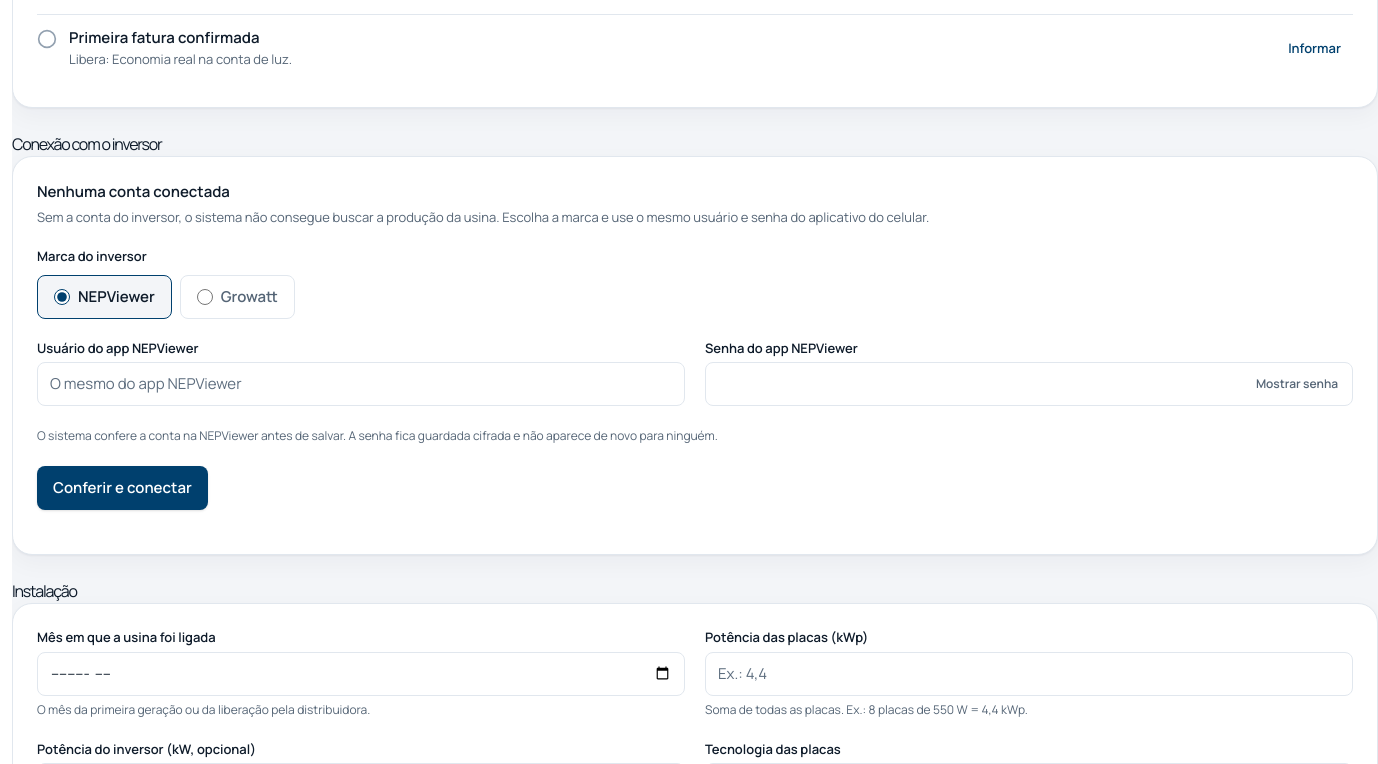
Test: PlantSetupPage — conexão com o inversor (ADR-091) › sem conexão, confere a conta, mostra quantos inversores achou e esquece a senha
This screenshot has width=1378, height=764.
(page scrolled)
expect the text "Nenhuma conta conectada" is shown: met, box [37, 181, 230, 202]
expect the password field labelled "Senha do app NEPViewer" is empty: met, box [705, 362, 1353, 406]
In the field labelled "Usuário do app NEPViewer": (361, 384) [37, 362, 685, 406], type " cliente@example.com "
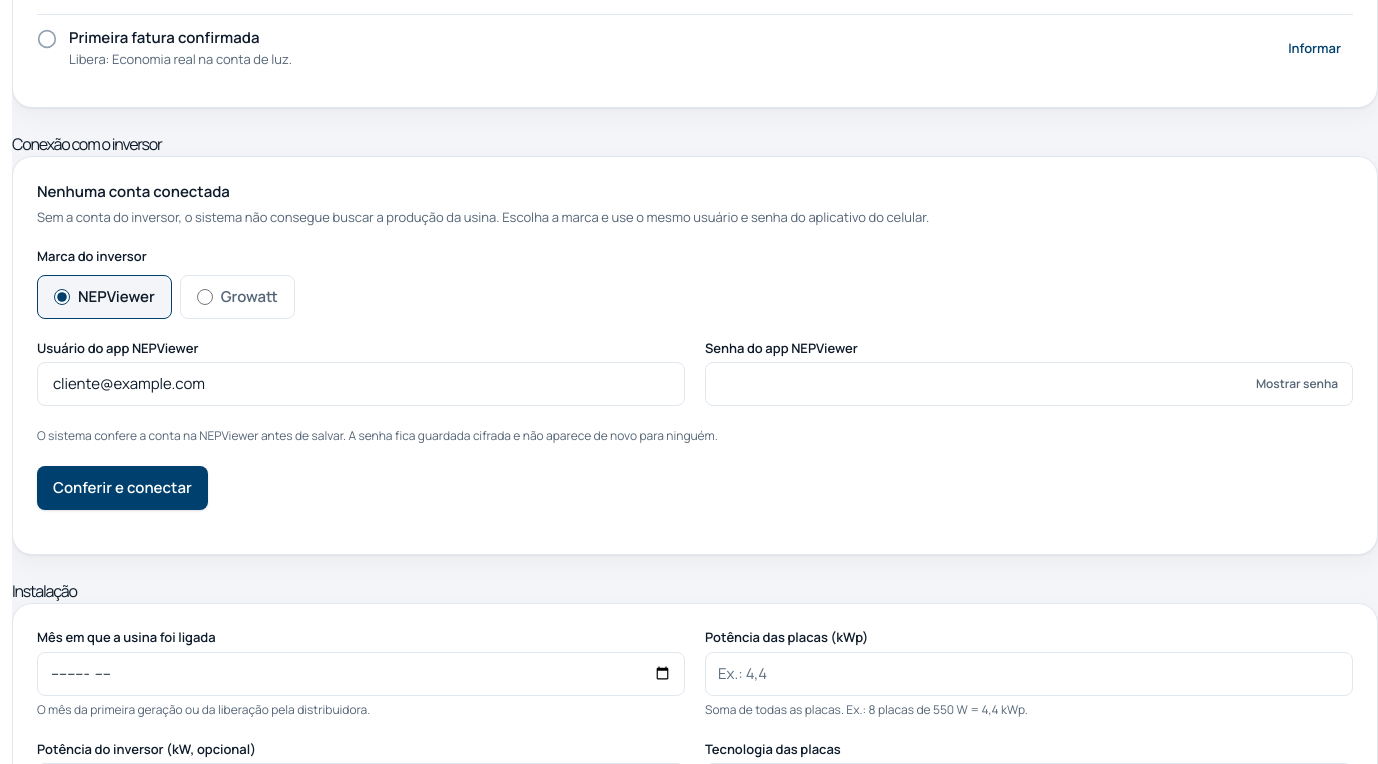
In the password field labelled "Senha do app NEPViewer": (1029, 384) [705, 362, 1353, 406], type "s3nh4-do-inversor"
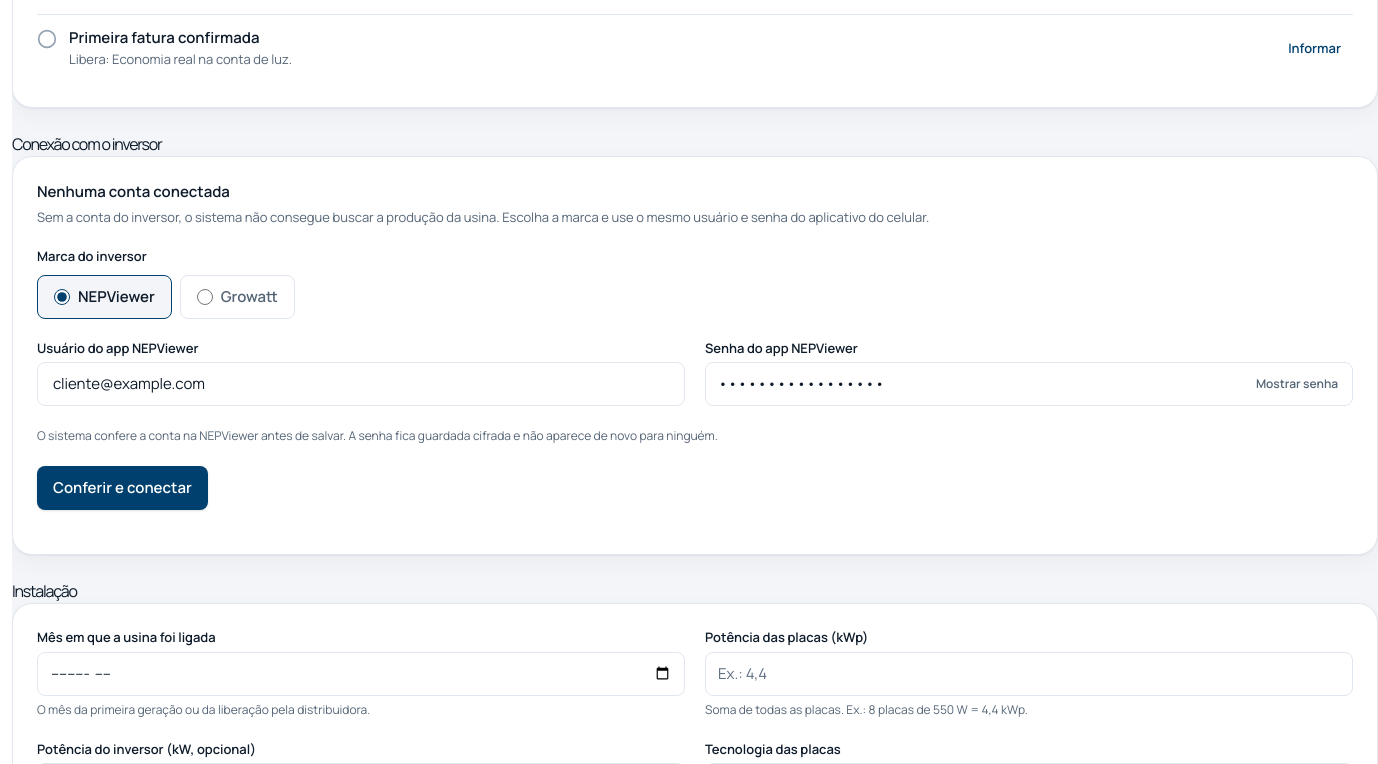
Click the button "Conferir e conectar": (122, 488) [37, 466, 208, 510]
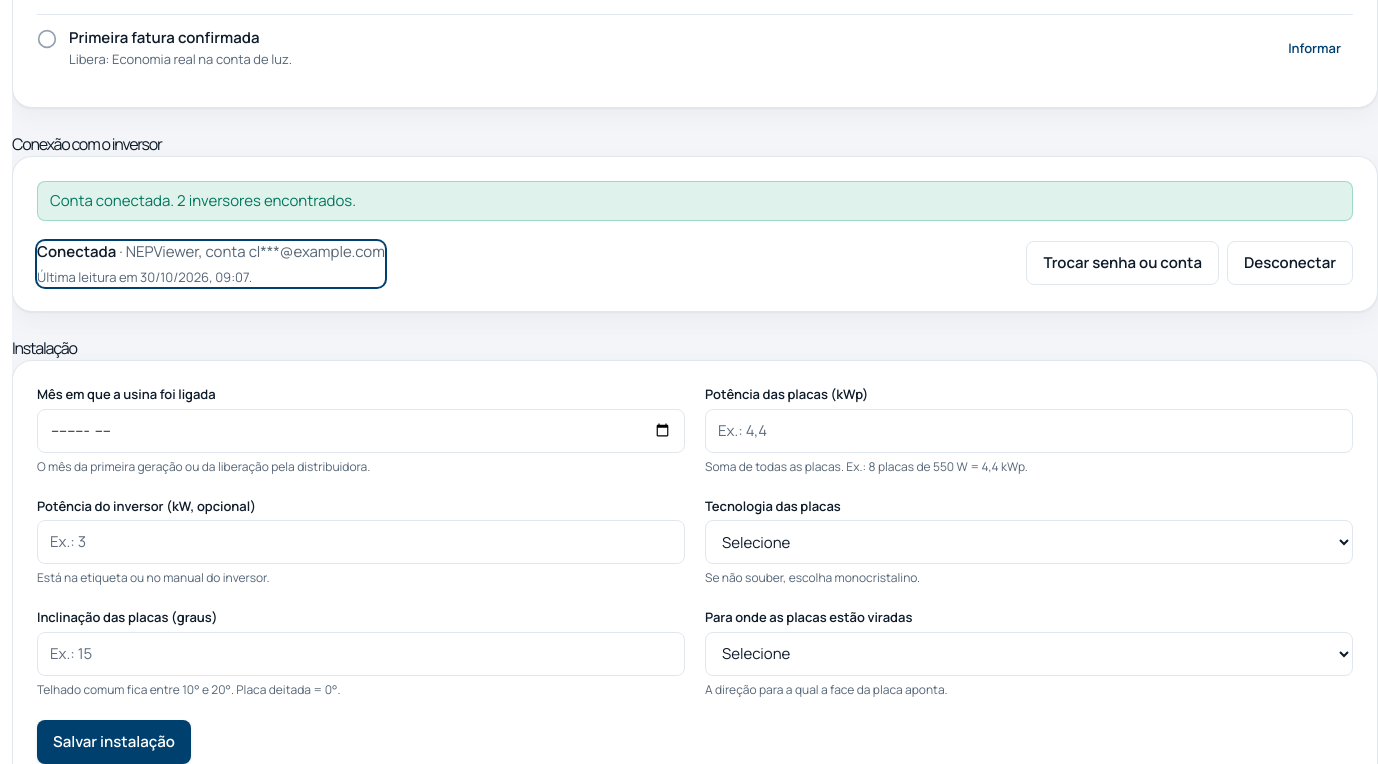
expect the text "Conta conectada. 2 inversores encontrados." is shown: met, box [37, 181, 1353, 221]
expect the text "· NEPViewer, conta cl***@example.com" is shown: met, box [116, 241, 385, 262]
expect the label labelled "Senha do app NEPViewer" is gone: met
